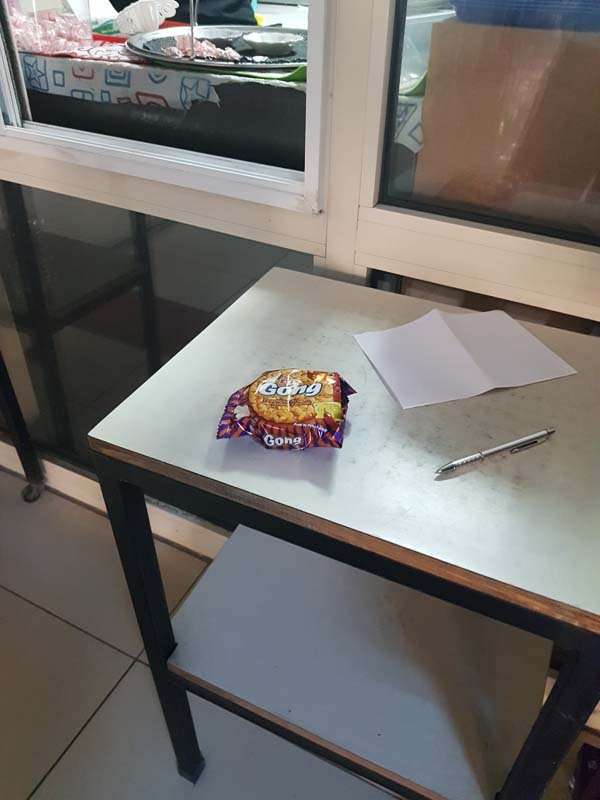etigong: (216, 353, 358, 459)
